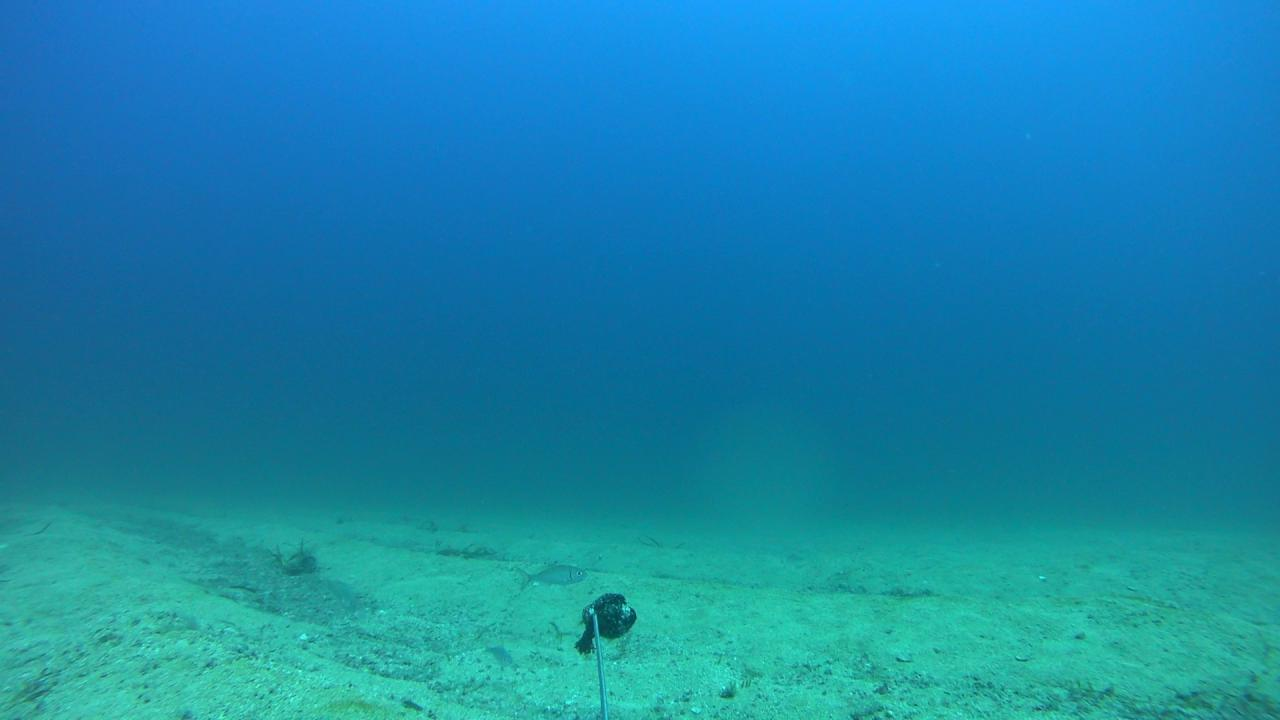pagellus: (514, 563, 586, 590), (475, 639, 516, 670)
